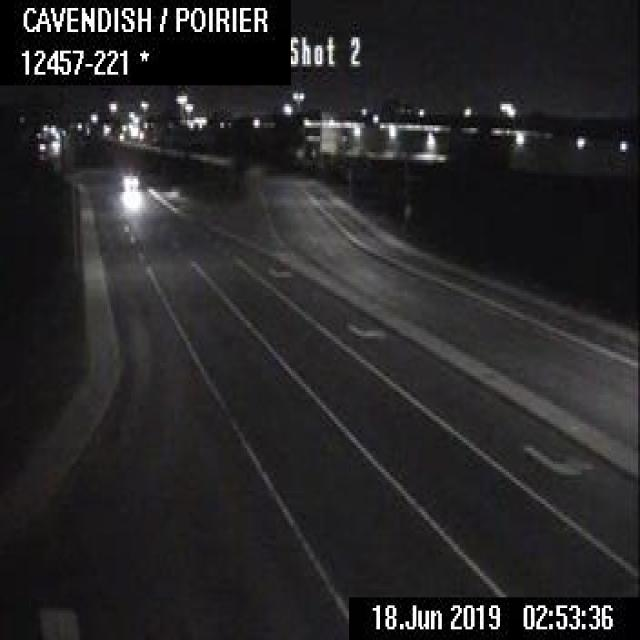vehicle: (120, 171, 137, 190)
